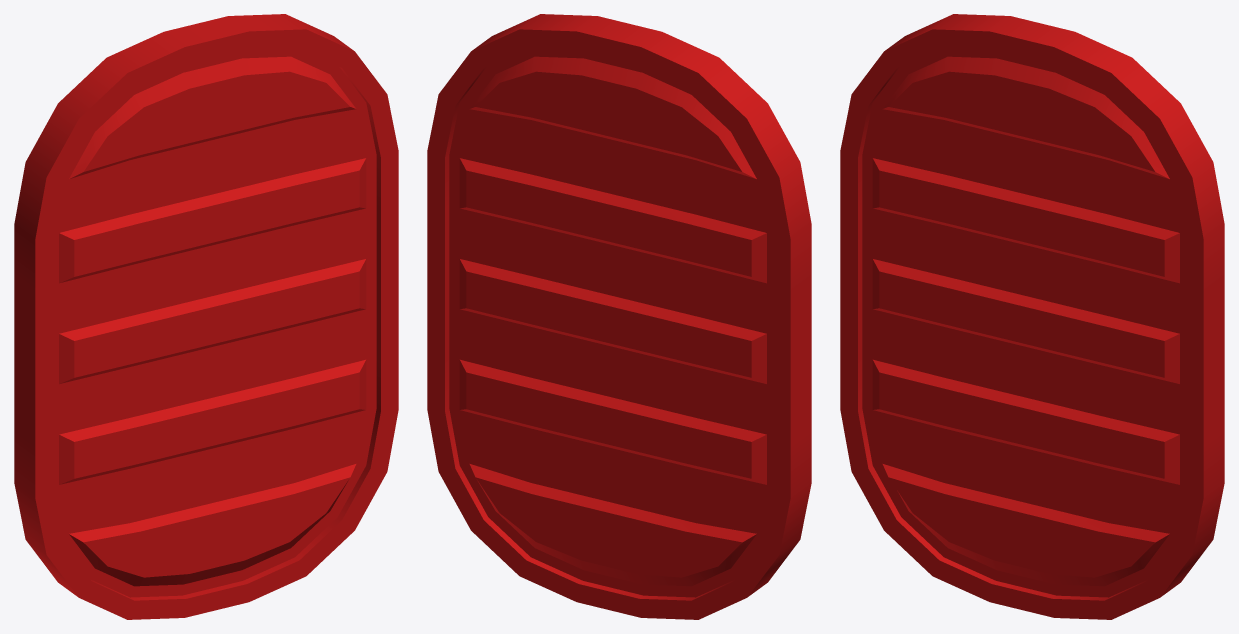
The model's file is Moneda2.fbx.
3 views of the same model, side by side, from view 1: azimuth 30°, elevation 25°; view 2: azimuth 150°, elevation 25°; view 3: azimuth 330°, elevation 25° (orthographic).
Parts seen in each view (by area): view 1: MonedaMods.003; view 2: MonedaMods.003; view 3: MonedaMods.003.
Part boxes in pixels (x1=…): MonedaMods.003: x1=14, y1=14, x2=398, y2=619; MonedaMods.003: x1=427, y1=14, x2=811, y2=619; MonedaMods.003: x1=840, y1=14, x2=1224, y2=619.
Bounding box in the file's own units: 2.62 × 3.94 × 0.2625.
